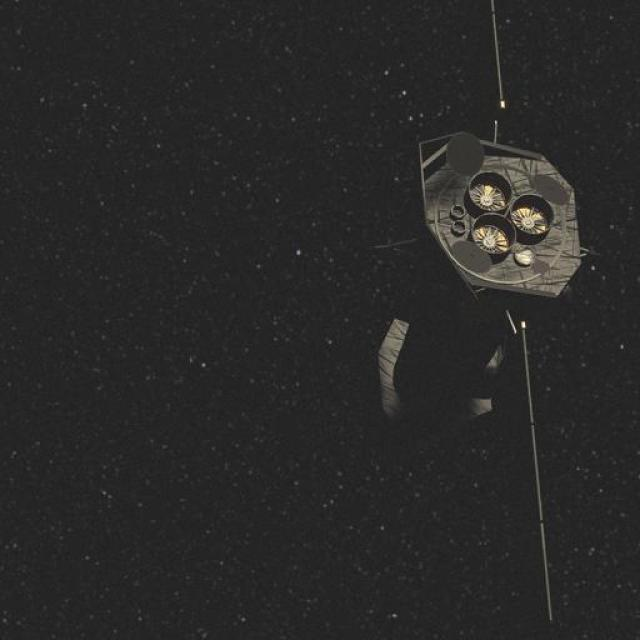xmm_newton: (374, 73, 608, 597)
